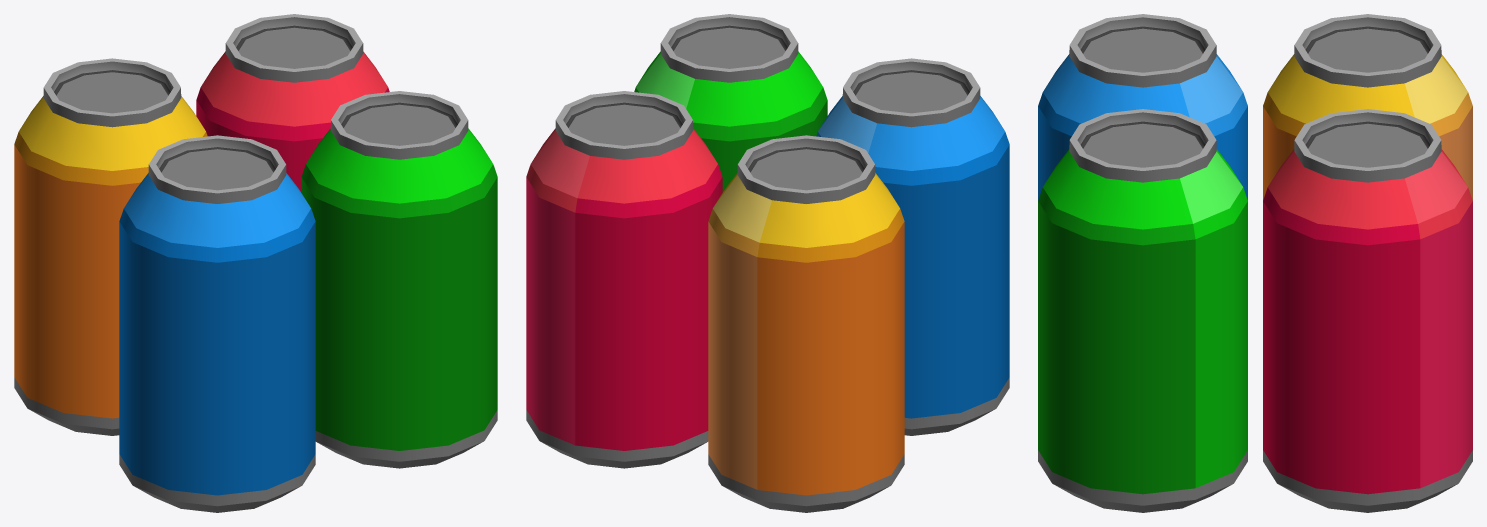
The model's file is SodaCan.fbx.
3 views of the same model, side by side, from view 1: azimuth 30°, elevation 25°; view 2: azimuth 150°, elevation 25°; view 3: azimuth 270°, elevation 25° (orthographic). The views are drawn at different scales.
Visible parts, largest first — view 1: SodaCan; view 2: SodaCan; view 3: SodaCan.
Boxes of the visible parts, x1,y1,x2,y2 form: SodaCan: (14, 14, 497, 512); SodaCan: (526, 14, 1009, 512); SodaCan: (1038, 14, 1472, 512).
Size of the model in its own units: 58 by 50 by 58.
